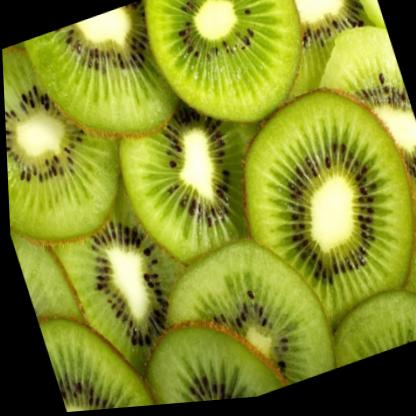--: (206, 67, 416, 351), (92, 70, 287, 285), (1, 17, 144, 258), (130, 0, 333, 155), (15, 0, 195, 173)
